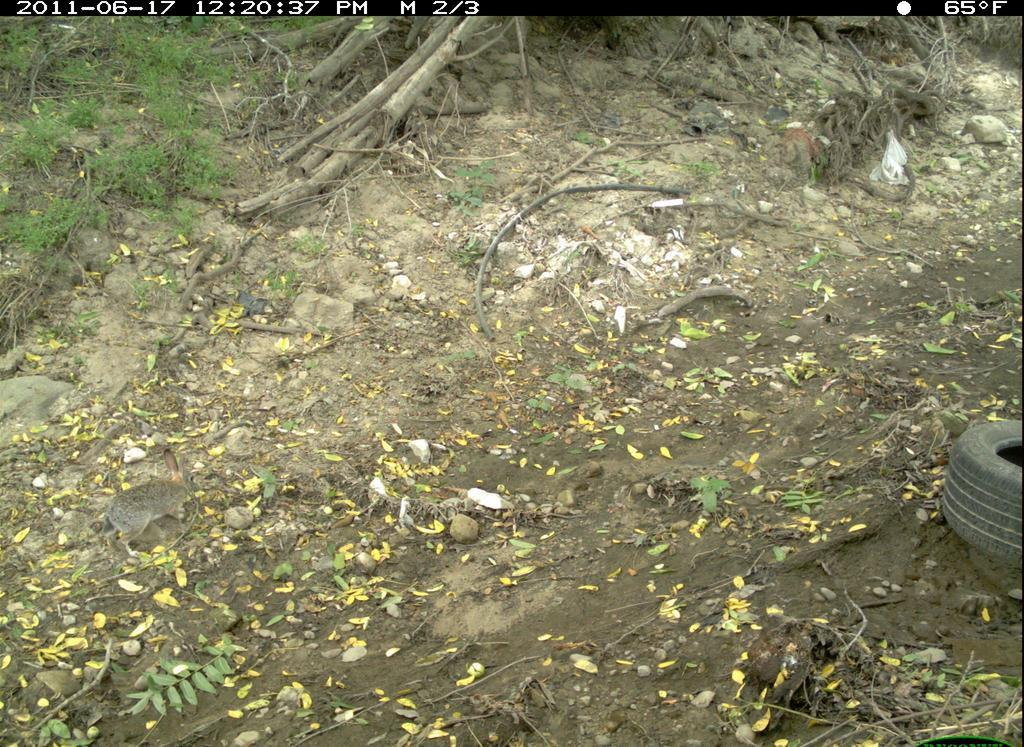rabbit: (85, 443, 210, 566)
